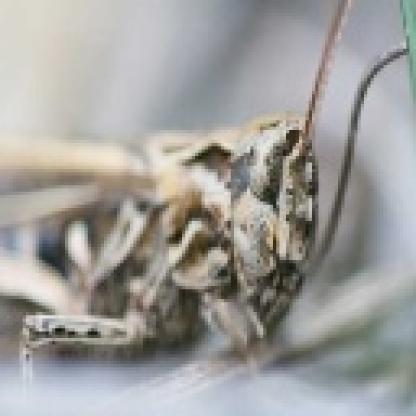grasshopper: (0, 9, 390, 352)
